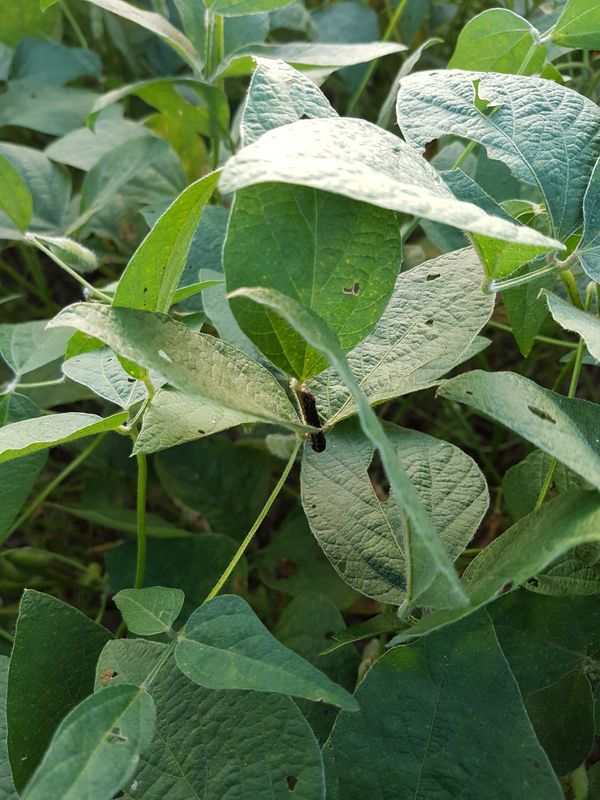Spodoptera_albula: (285, 392, 341, 458)
